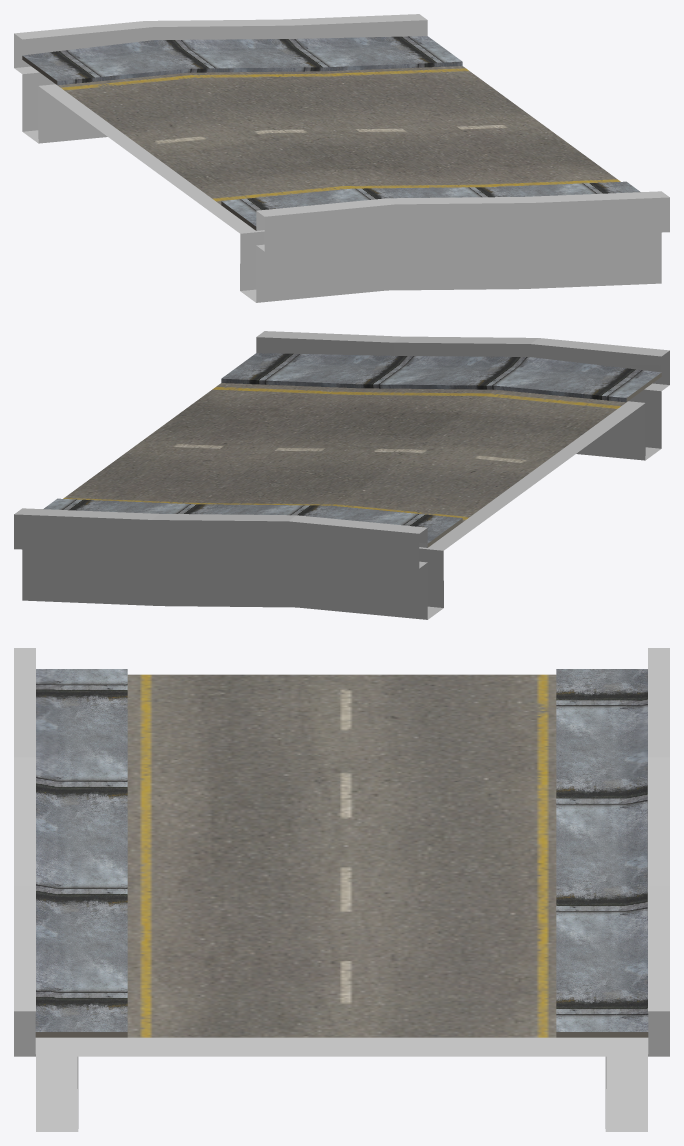
Rendered from Urban_Road1BridgeRamp_Model.fbx.
3 renders of one model, top to bottom at view 1: azimuth 30°, elevation 25°; view 2: azimuth 150°, elevation 25°; view 3: azimuth 270°, elevation 25°, orthographic. The views are drawn at different scales.
Visible parts, largest first — view 1: Urban_Road1BridgeRamp_Mesh; view 2: Urban_Road1BridgeRamp_Mesh; view 3: Urban_Road1BridgeRamp_Mesh.
Boxes of the visible parts, bbox=[...] form: Urban_Road1BridgeRamp_Mesh: bbox=[14, 14, 669, 302]; Urban_Road1BridgeRamp_Mesh: bbox=[14, 331, 669, 619]; Urban_Road1BridgeRamp_Mesh: bbox=[14, 648, 669, 1131].
Bounding box in the file's own units: 16 × 6.48 × 17.13.
